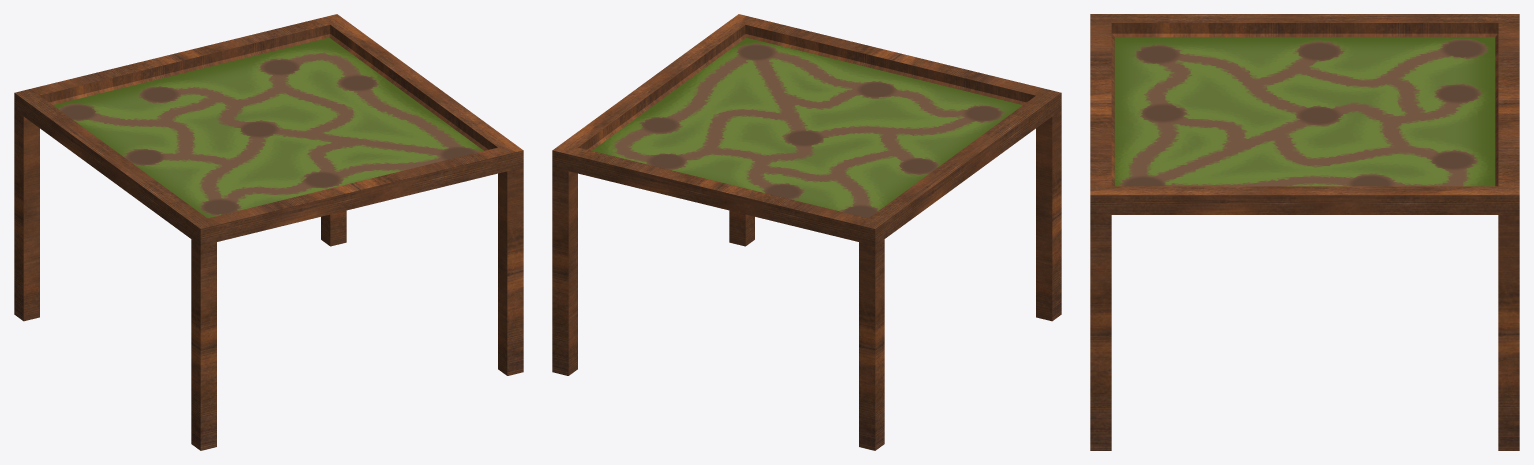
The model's file is 1 Tabellone.fbx.
3 renders of one model, left to right at view 1: azimuth 30°, elevation 25°; view 2: azimuth 150°, elevation 25°; view 3: azimuth 270°, elevation 25°, orthographic. The views are drawn at different scales.
Visible parts, largest first — view 1: pCube1; view 2: pCube1; view 3: pCube1.
Part boxes in pixels (x1,y1,x2,y2): pCube1: (14, 14, 523, 450); pCube1: (552, 14, 1061, 450); pCube1: (1090, 14, 1519, 450).
Bounding box in the file's own units: 30 × 19.69 × 30.
1 material, 1 textured.
